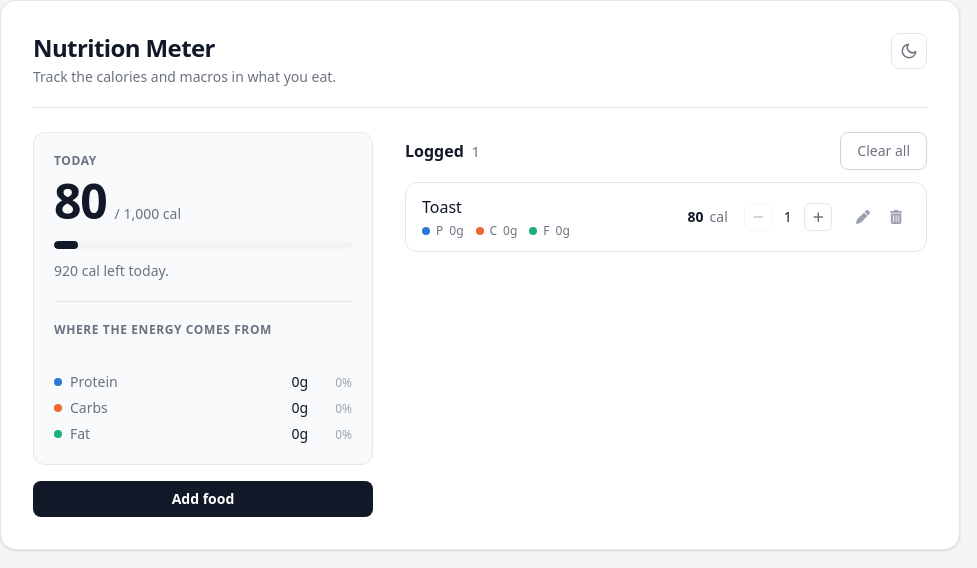
it: editing › saves an edit back to the row
Click the button named "edit toast".
click(863, 217)  # box [848,203,878,231]
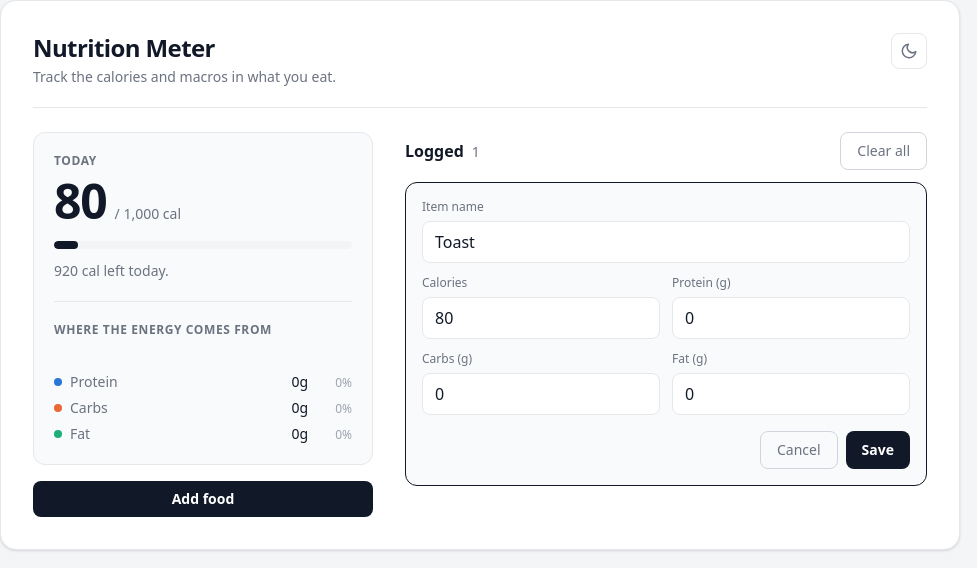
Replace the text in the field labelled "Item name" with "Brioche" at (666, 242), box [422,221,910,263]
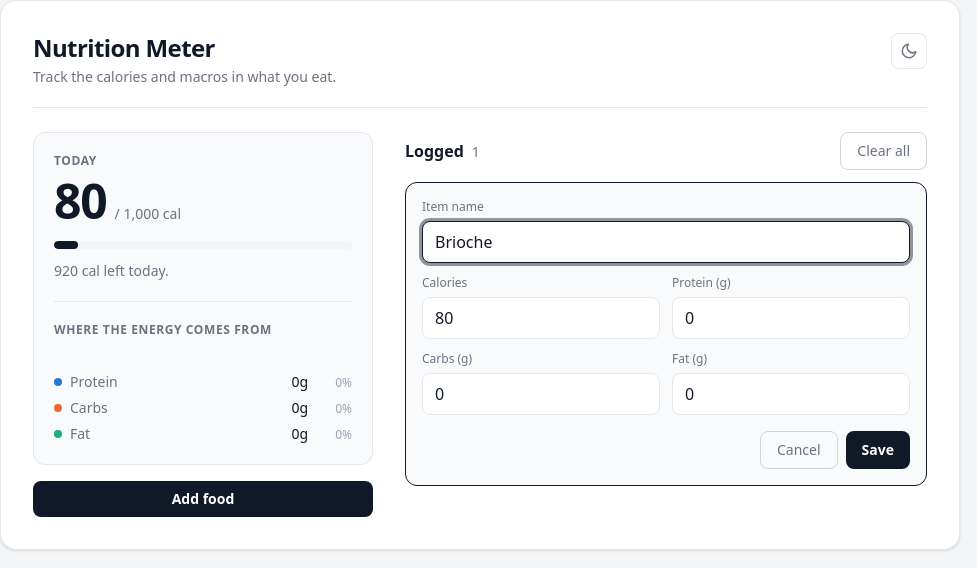
Click the button "Save".
click(878, 450)  # box [846,431,910,469]
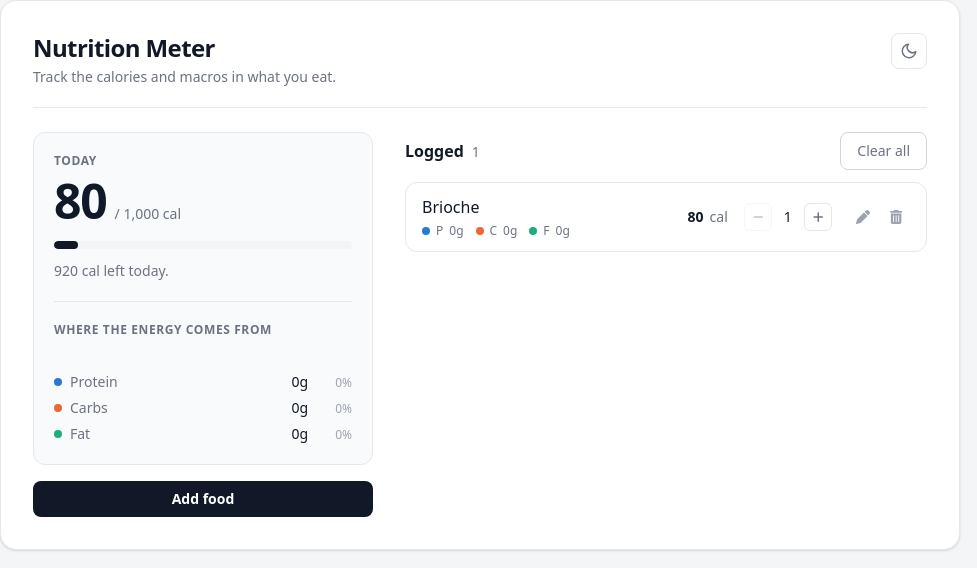
Check: the heading "Brioche" is shown, box [422,196,479,218]
